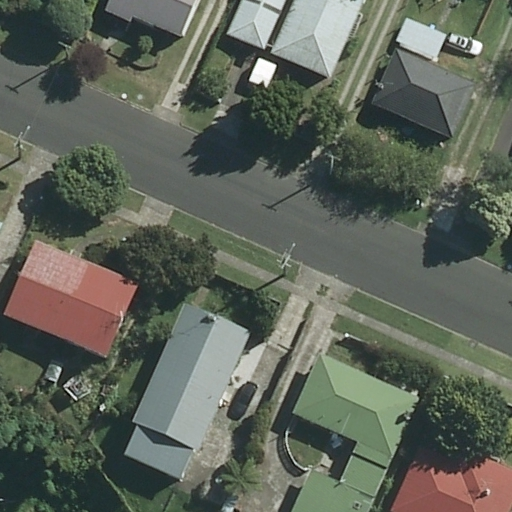DT: (275, 241, 299, 281), (10, 127, 35, 160), (321, 152, 341, 183), (56, 41, 72, 67)
